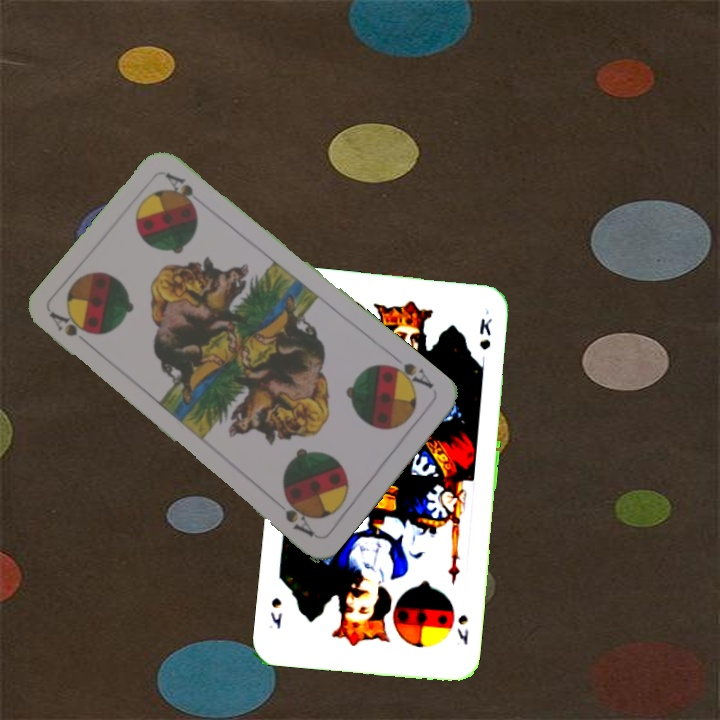SA: (46, 308, 96, 351), (382, 359, 437, 394)
SK: (453, 610, 471, 647)
